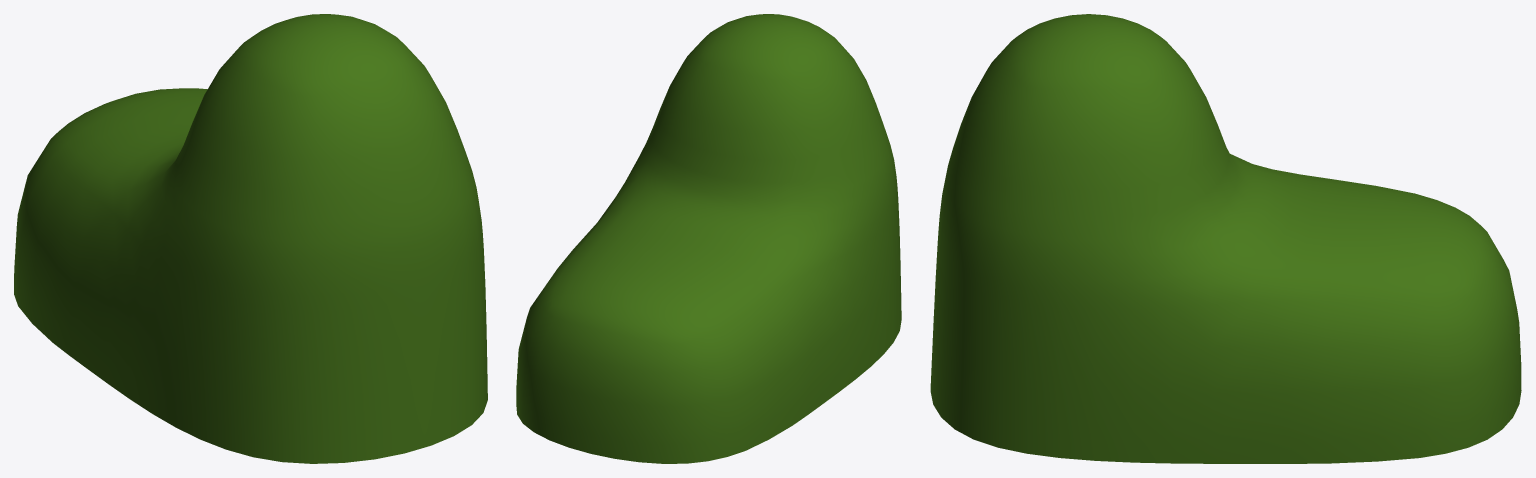
The model's file is mountain3.fbx.
The picture shows the model from 3 angles, left to right: view 1: azimuth 30°, elevation 25°; view 2: azimuth 150°, elevation 25°; view 3: azimuth 270°, elevation 25°; orthographic projection. The views are drawn at different scales.
Visible parts, largest first — view 1: Cube.022; view 2: Cube.022; view 3: Cube.022.
Boxes of the visible parts, left/top/right/bottom form: Cube.022: left=14, top=14, right=487, bottom=463; Cube.022: left=516, top=14, right=901, bottom=463; Cube.022: left=930, top=14, right=1521, bottom=463.
Size of the model in its own units: 23.14 by 39.59 by 26.94.
